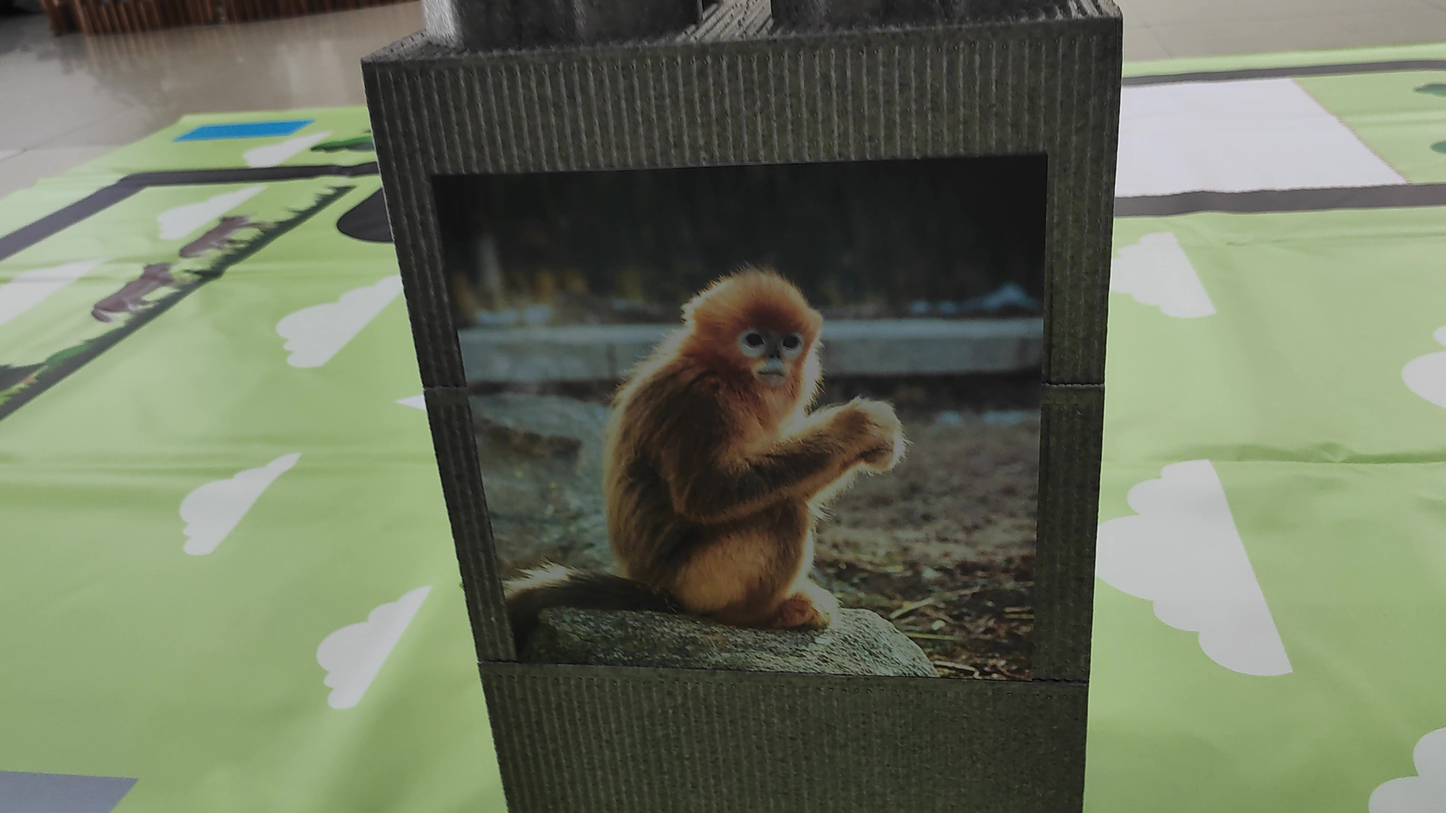monkey: (549, 242, 959, 655)
